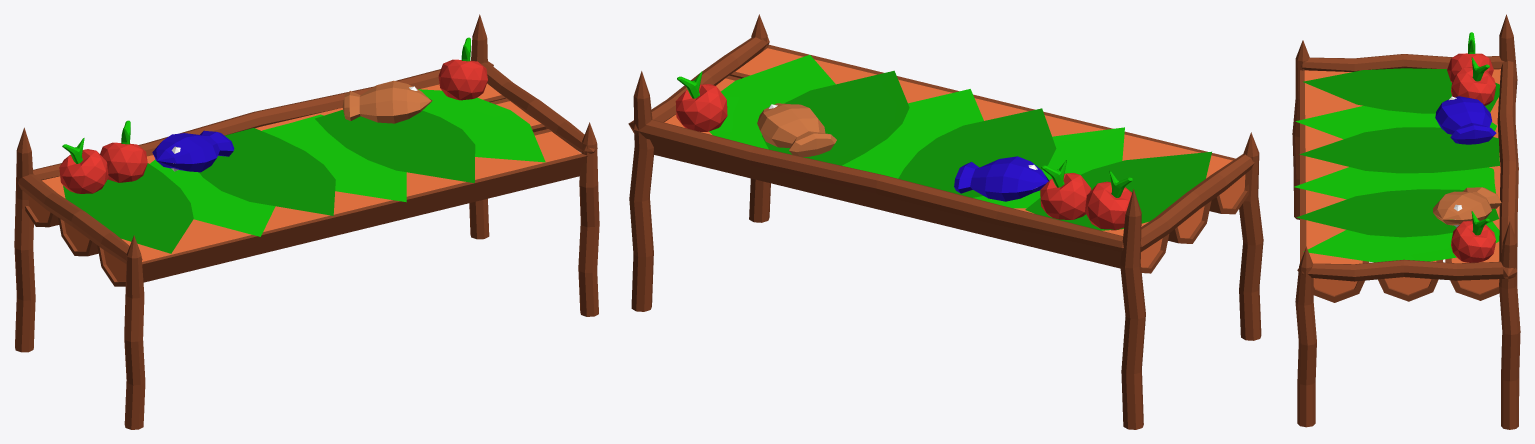
The model's file is FoodTable.fbx.
The picture shows the model from 3 angles, left to right: view 1: azimuth 30°, elevation 25°; view 2: azimuth 150°, elevation 25°; view 3: azimuth 270°, elevation 25°; orthographic projection. The views are drawn at different scales.
Visible parts, largest first — view 1: Torus.025, Icosphere.111; view 2: Torus.025, Icosphere.111; view 3: Torus.025, Icosphere.111.
Boxes of the visible parts, <box> form: Torus.025: <box>14,14,599,429</box>; Icosphere.111: <box>59,37,487,193</box>; Torus.025: <box>628,14,1263,429</box>; Icosphere.111: <box>675,71,1132,230</box>; Torus.025: <box>1292,14,1520,429</box>; Icosphere.111: <box>1433,32,1501,262</box>.
Size of the model in its own units: 736 by 326 by 324.
